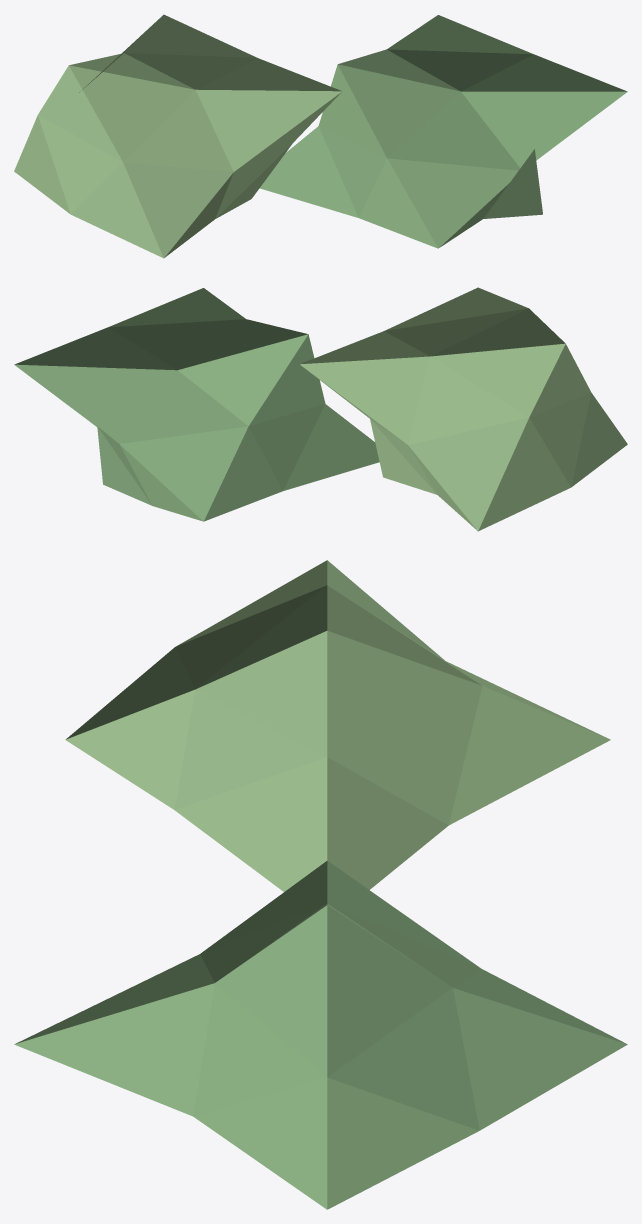
The model's file is shrub_v09.glb.
3 views of the same model, one above another, from view 1: azimuth 30°, elevation 25°; view 2: azimuth 150°, elevation 25°; view 3: azimuth 270°, elevation 25° (orthographic). The views are drawn at different scales.
Visible parts, largest first — view 1: lod0; view 2: lod0; view 3: lod0.
Boxes of the visible parts, left/top/right/bottom form: lod0: left=14, top=14, right=627, bottom=258; lod0: left=14, top=287, right=627, bottom=531; lod0: left=14, top=560, right=627, bottom=1209.
Size of what is drawn, in the model's own units: 1.83 by 0.86 by 1.06.
